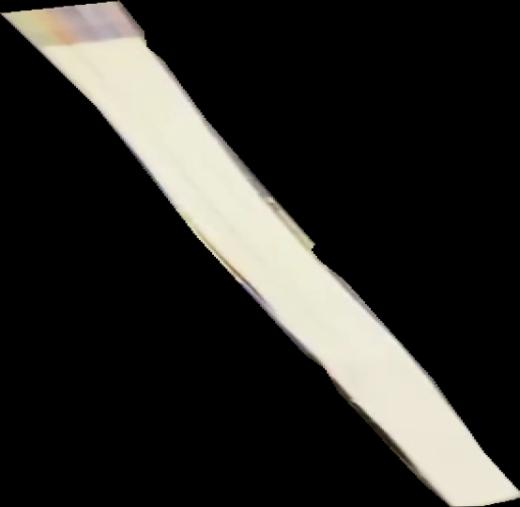backward: (1, 1, 520, 507)
